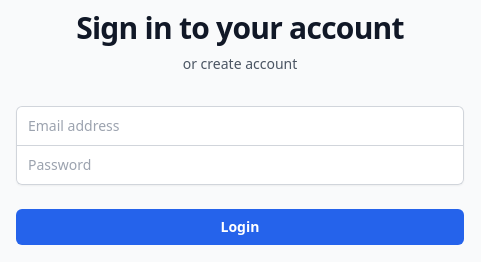
Test: LoginPage › Form Submission › disables submit button while loading
The width and height of the screenshot is (481, 262).
Type "test@example.com" into the field with placeholder "Email address" at [240, 126], box [16,106,464,146]
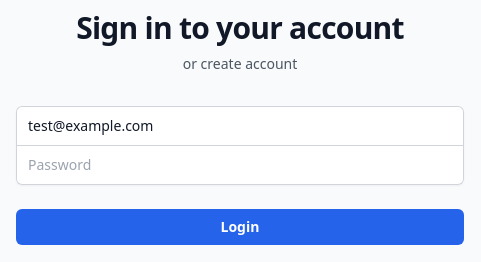
Type "password123" into the password field with placeholder "Password" at [240, 164], box [16,144,464,184]
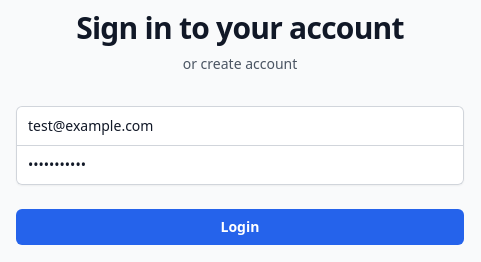
Click the button "Login" at [240, 226], box [16,208,464,244]
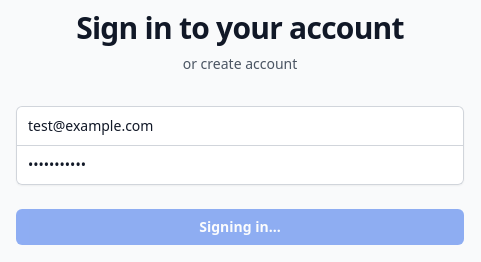
Expected: the button named "Login" is disabled, [16,208,464,244]
